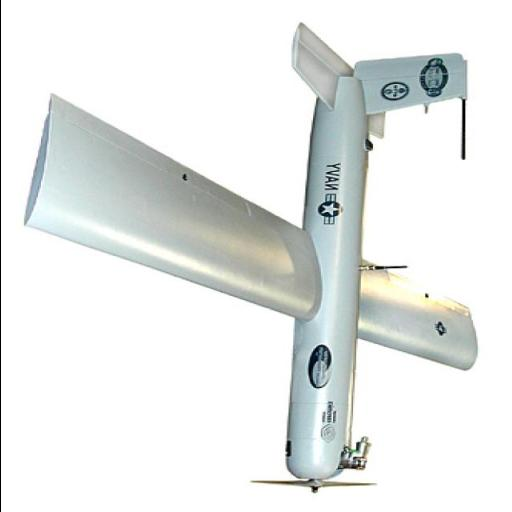uav: (21, 20, 481, 494)
